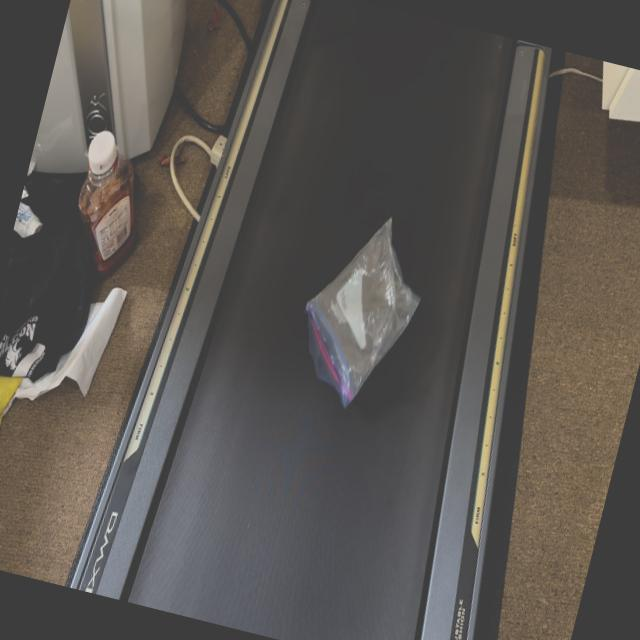Trash: (281, 198, 440, 422)
